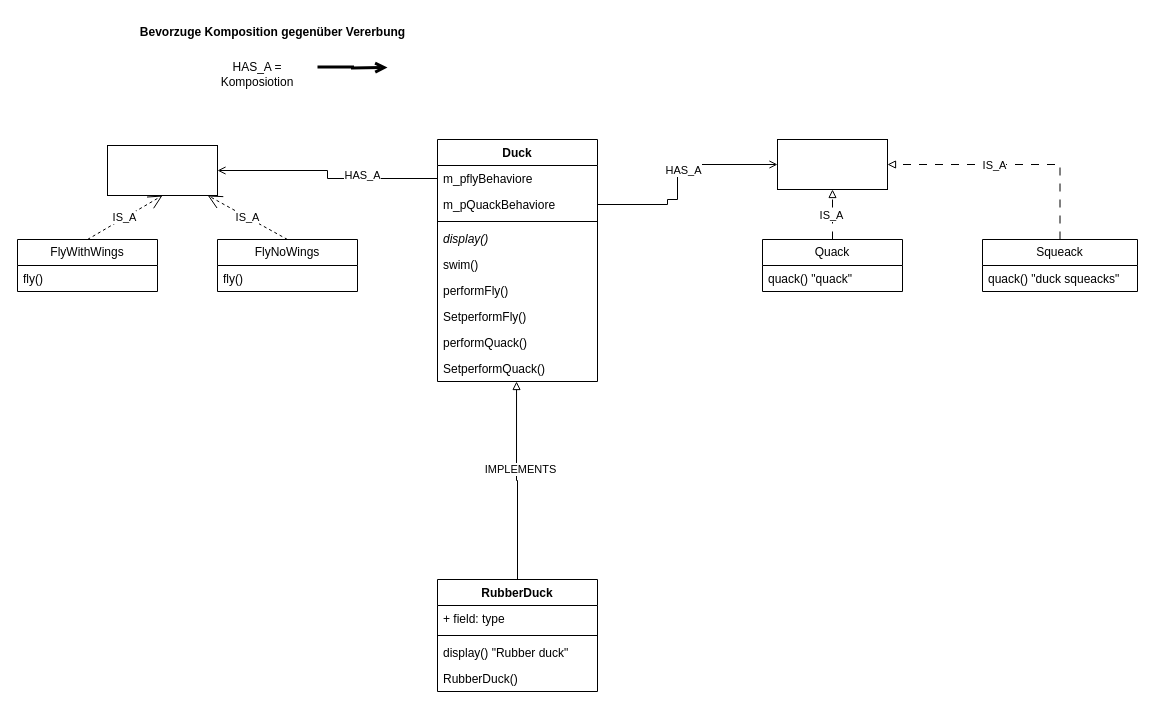
The diagram is 1155 pixels wide and 711 high, and some of its shapes have lost their labels. The shapes that lost their labels are listed below. From the top down, each one's centre as x and y in pixels, then its label:
[162,170]: «interface» IFly
[832,164]: «interface» IQuack
